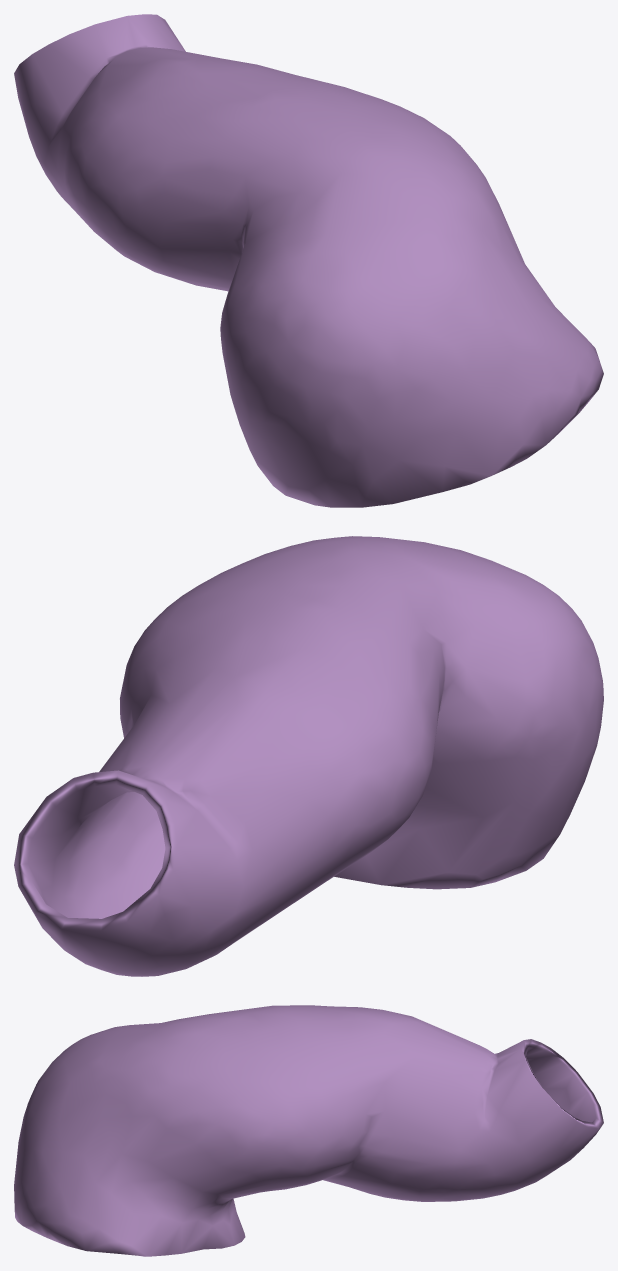
3 renders of one model, top to bottom at view 1: azimuth 30°, elevation 25°; view 2: azimuth 150°, elevation 25°; view 3: azimuth 270°, elevation 25°, orthographic. The views are drawn at different scales.
Parts seen in each view (by area): view 1: 乙状结肠; view 2: 乙状结肠; view 3: 乙状结肠.
Part boxes in pixels (x1=…): 乙状结肠: x1=14, y1=14, x2=603, y2=507; 乙状结肠: x1=14, y1=536, x2=603, y2=976; 乙状结肠: x1=14, y1=1005, x2=603, y2=1256.
Size of the model in its own units: 0.0907 by 0.0728 by 0.1807.
